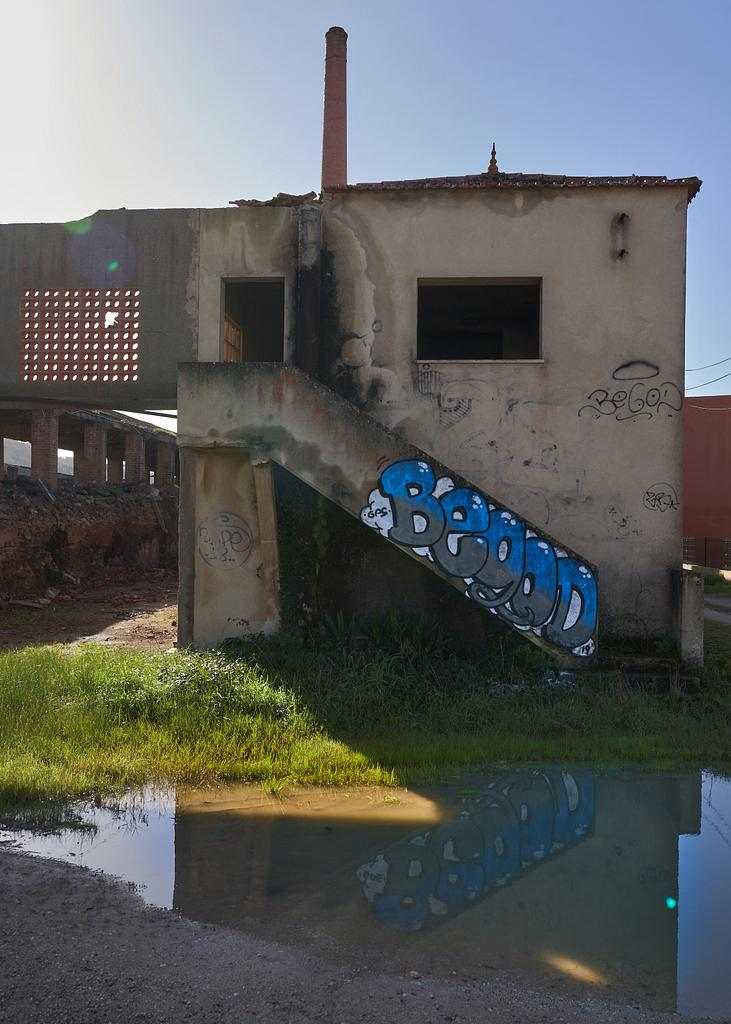graffiti: (366, 450, 592, 662), (584, 379, 686, 429), (190, 513, 262, 572), (636, 480, 679, 514)
